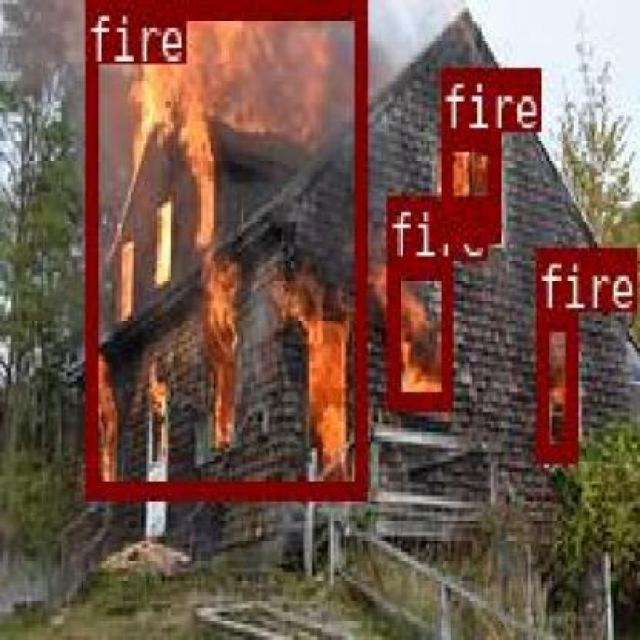Fire: (81, 0, 364, 495), (385, 260, 450, 406), (438, 132, 498, 240), (534, 310, 576, 458)
